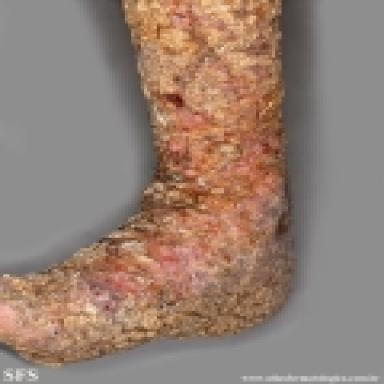Darier_s-Disease: (1, 0, 293, 364)
